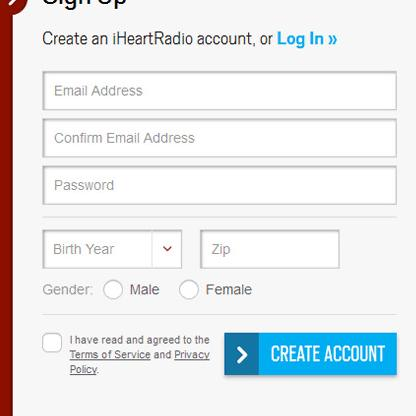button: (223, 332, 397, 376)
checkbox: (42, 331, 65, 356)
checkbox_with_label: (39, 327, 214, 362)
field: (42, 118, 398, 159), (42, 166, 398, 206), (42, 71, 397, 111), (42, 229, 184, 270), (200, 229, 341, 270)
radio: (179, 279, 201, 299), (102, 279, 122, 299)
radio_with_label: (42, 275, 125, 302), (176, 276, 253, 302), (97, 275, 161, 302)
